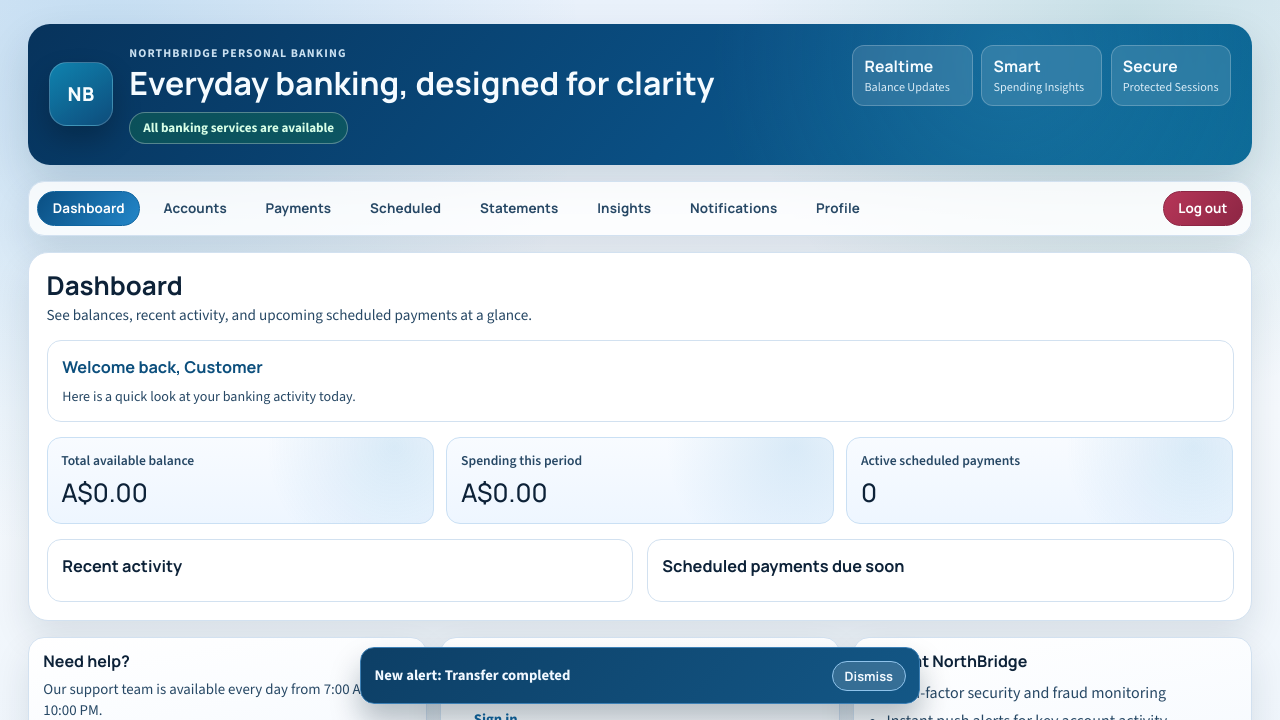
Test case: App › shows an on-screen alert when a newer customer notification arrives
The width and height of the screenshot is (1280, 720).
Expected: the heading "Dashboard" is shown, [46,267,183,303]
Expected: the message shows "New alert: Transfer completed", [374,665,570,685]
Click the button "Dismiss" at (869, 676), box [832,661,906,690]
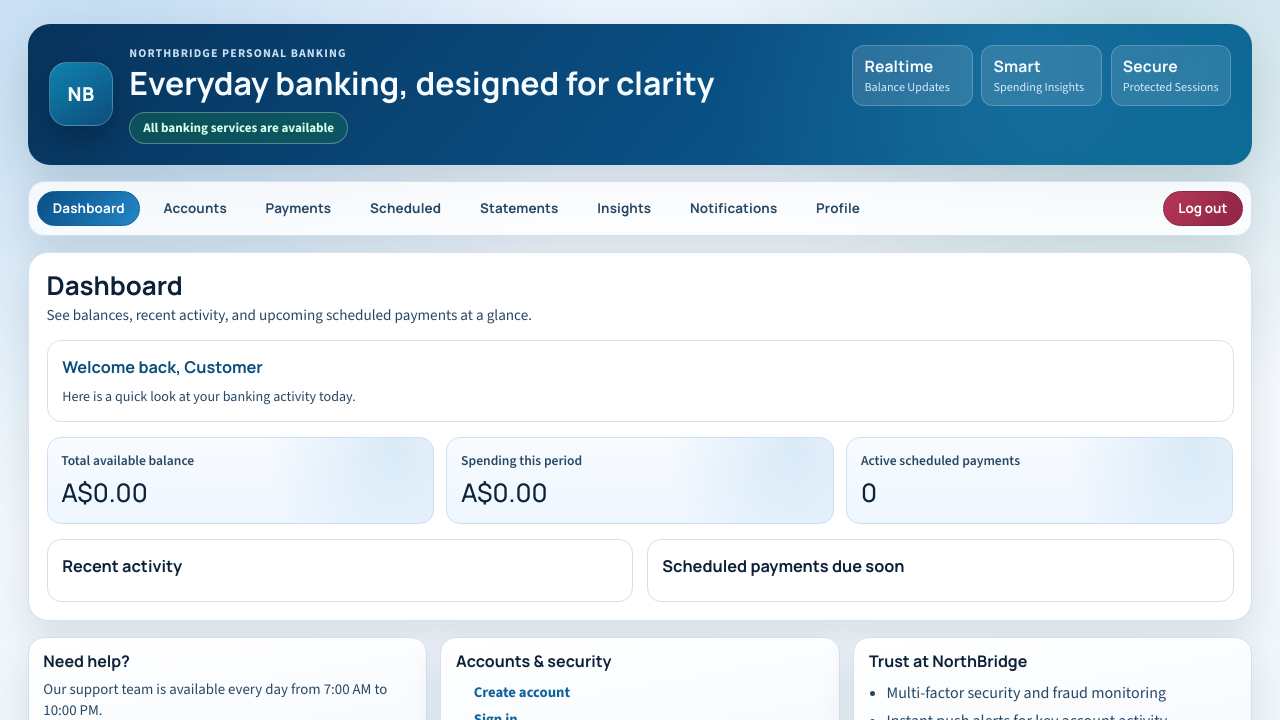
Expected: the message "New alert: Transfer completed Dismiss" is gone
